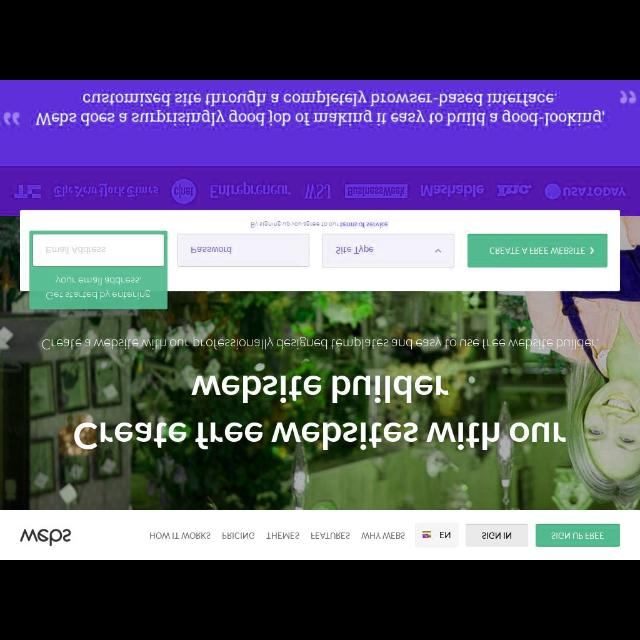backgroundimage: (1, 217, 639, 509), (1, 82, 639, 216)
icon: (422, 530, 434, 540), (588, 245, 594, 257), (436, 247, 442, 255)
image: (17, 526, 74, 546)
input: (176, 232, 312, 268), (32, 235, 166, 268)
link: (340, 219, 388, 227)
spinner: (322, 232, 456, 270)
text: (72, 370, 570, 452), (35, 91, 609, 131), (40, 338, 602, 350), (46, 275, 152, 301), (488, 242, 586, 258), (249, 218, 391, 228), (46, 243, 108, 254), (148, 532, 212, 542), (550, 531, 606, 541), (360, 530, 406, 542), (189, 244, 233, 256), (334, 244, 376, 256), (221, 531, 255, 541), (266, 530, 300, 540), (480, 532, 514, 542), (311, 532, 351, 540), (439, 530, 451, 540)
textbutton: (468, 234, 608, 268), (535, 524, 621, 546), (466, 526, 530, 546)
toolbar: (1, 510, 639, 554)
